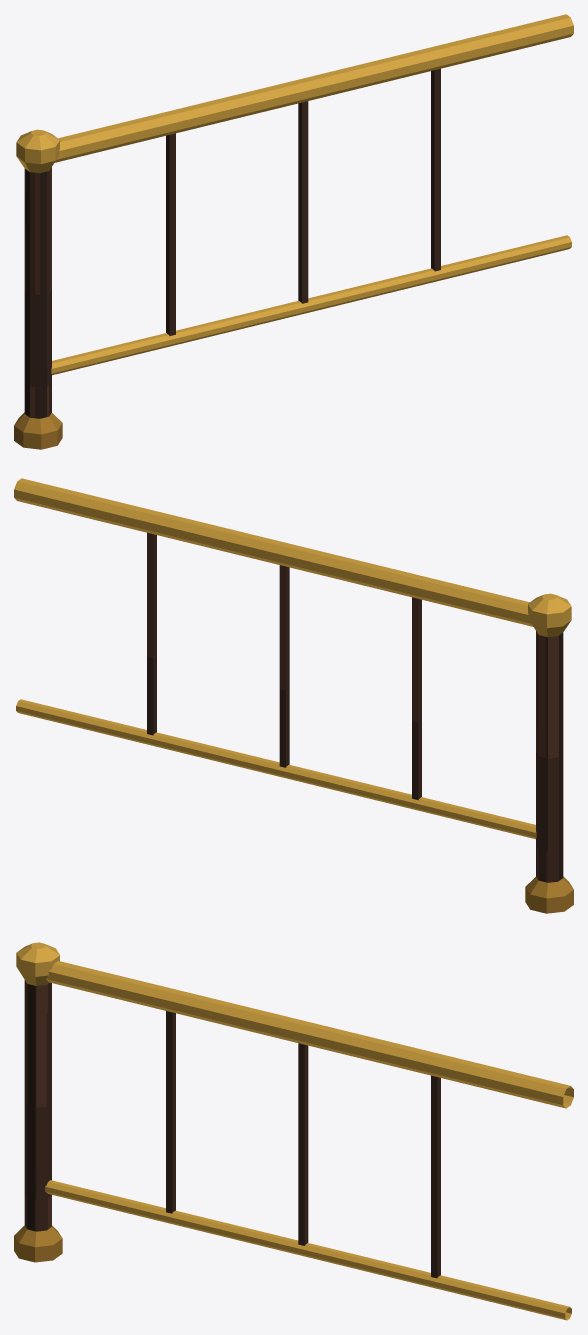
The model's file is brass_pit_railing.gltf.
The picture shows the model from 3 angles, top to bottom: view 1: azimuth 30°, elevation 25°; view 2: azimuth 150°, elevation 25°; view 3: azimuth 330°, elevation 25°; orthographic projection.
Parts seen in each view (by area): view 1: BrassRailSpan, BrassRailPost; view 2: BrassRailSpan, BrassRailPost; view 3: BrassRailSpan, BrassRailPost.
Boxes of the visible parts, x1=… form: BrassRailSpan: x1=51, y1=14, x2=573, y2=375; BrassRailPost: x1=14, y1=129, x2=62, y2=449; BrassRailSpan: x1=14, y1=478, x2=536, y2=839; BrassRailPost: x1=525, y1=593, x2=573, y2=913; BrassRailSpan: x1=45, y1=961, x2=573, y2=1320; BrassRailPost: x1=14, y1=942, x2=62, y2=1262.
Bounding box in the file's own units: 2.07 × 1.11 × 0.1478.
1 material, 1 textured.
